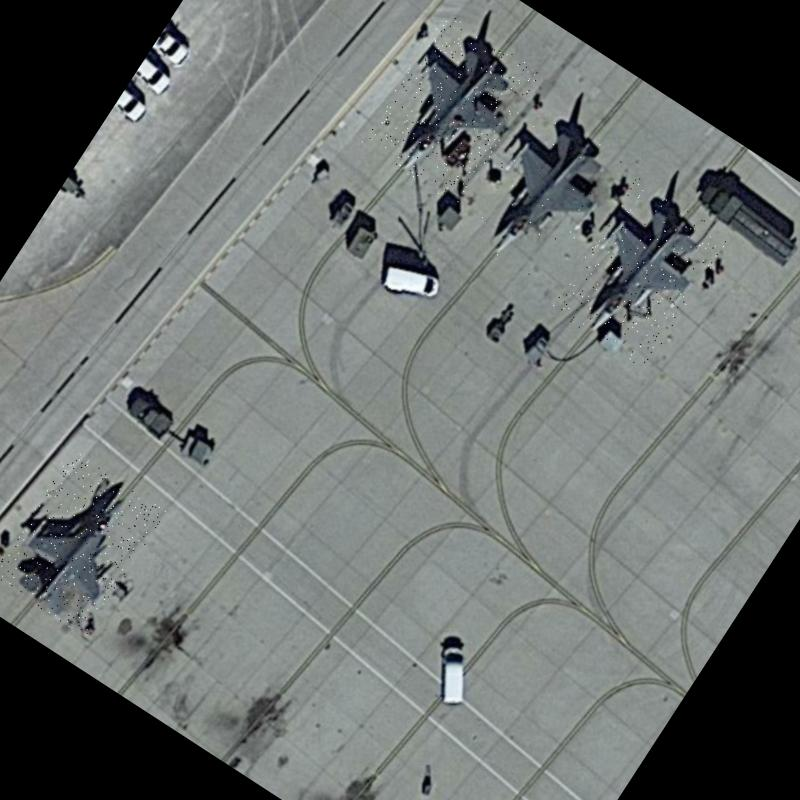A5: (360, 11, 543, 207), (550, 176, 732, 370), (454, 99, 628, 287), (0, 450, 168, 638)
